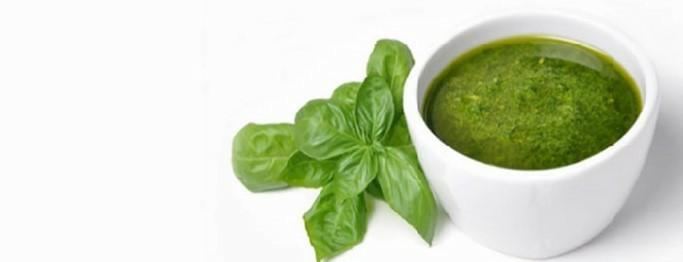GreenChutney: (422, 34, 642, 171)
